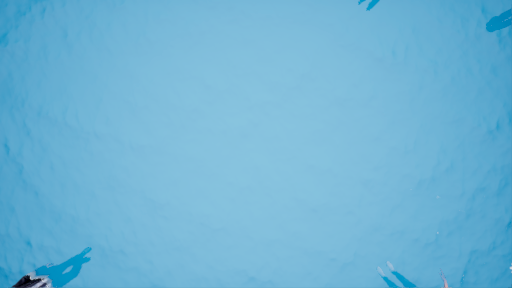person: (6, 245, 95, 288)
